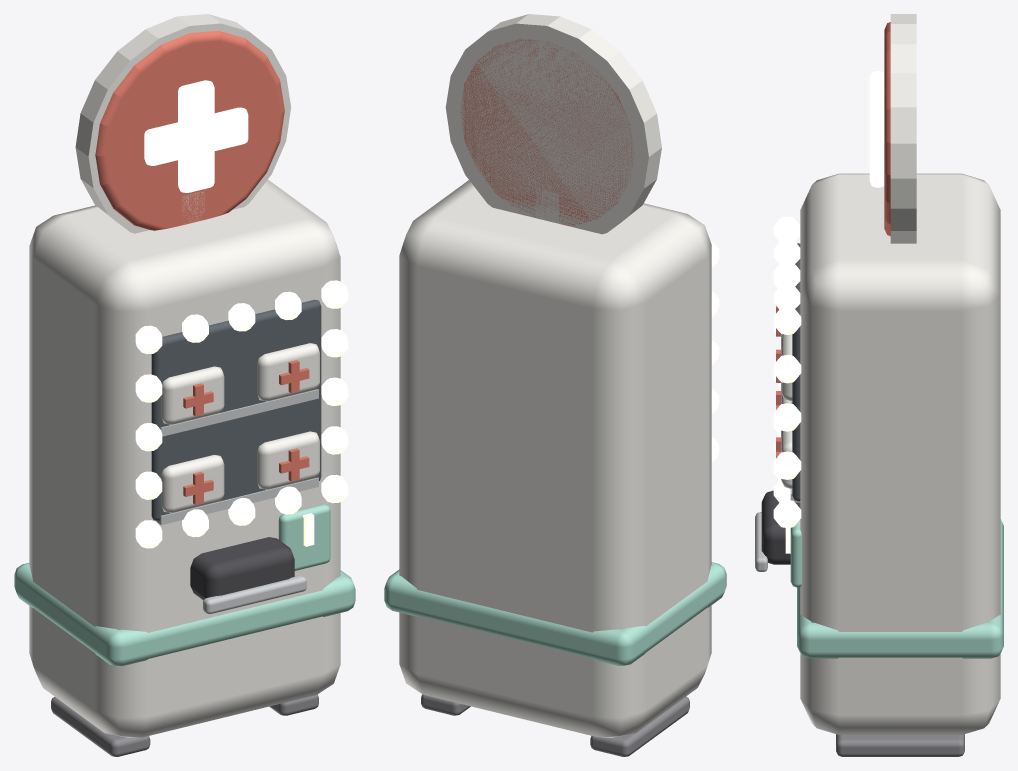
The model's file is machine_medkit.glb.
The picture shows the model from 3 angles, left to right: view 1: azimuth 30°, elevation 25°; view 2: azimuth 150°, elevation 25°; view 3: azimuth 270°, elevation 25°; orthographic projection.
Visible parts, largest first — view 1: MerchantShop; view 2: MerchantShop; view 3: MerchantShop.
Boxes of the visible parts, x1,y1,x2,y2 form: MerchantShop: (14,14,355,756); MerchantShop: (384,14,726,756); MerchantShop: (755,14,1003,756).
Bounding box in the file's own units: 0.88 × 2.34 × 0.77.
